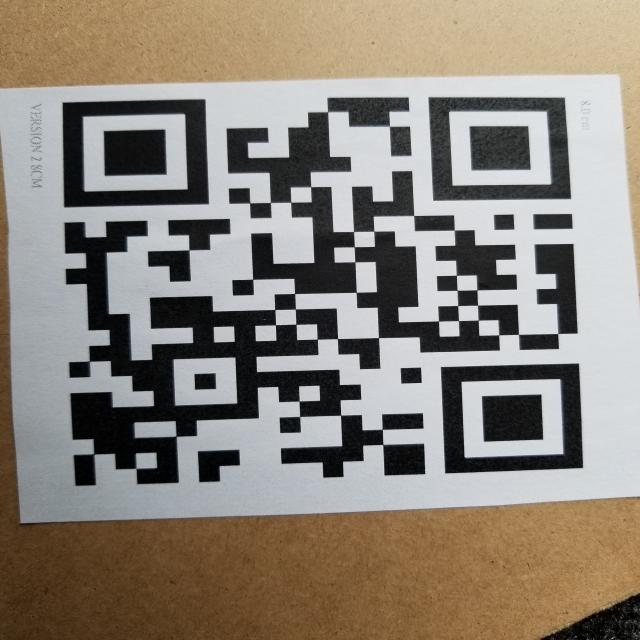QR_CODE: (40, 69, 600, 512)
